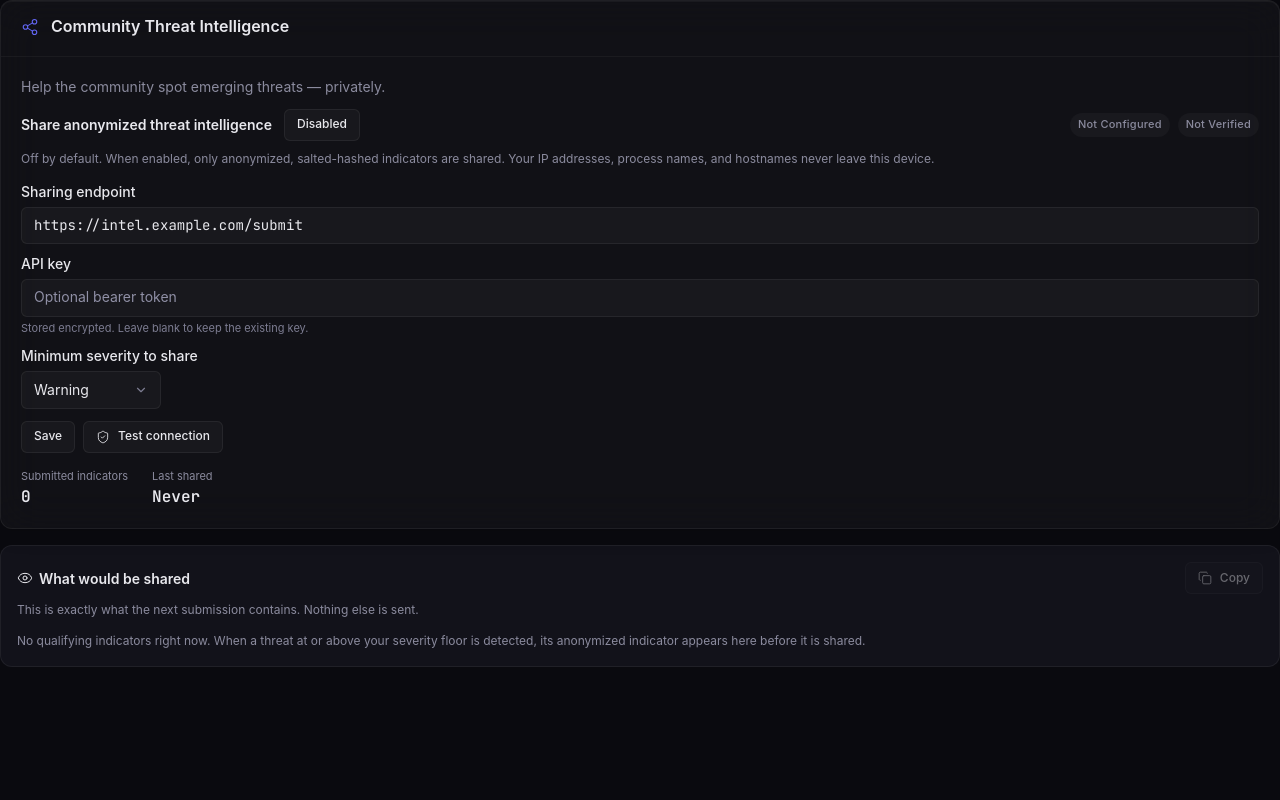
Test case: CommunityView › surfaces an IPC rejection (e.g. RBAC FORBIDDEN) instead of an unhandled rejection
Check: the field labelled "Sharing endpoint" is not empty, box left=21, top=207, right=1259, bottom=244
Click the button "Test connection".
click(153, 436)  # box left=83, top=420, right=223, bottom=452
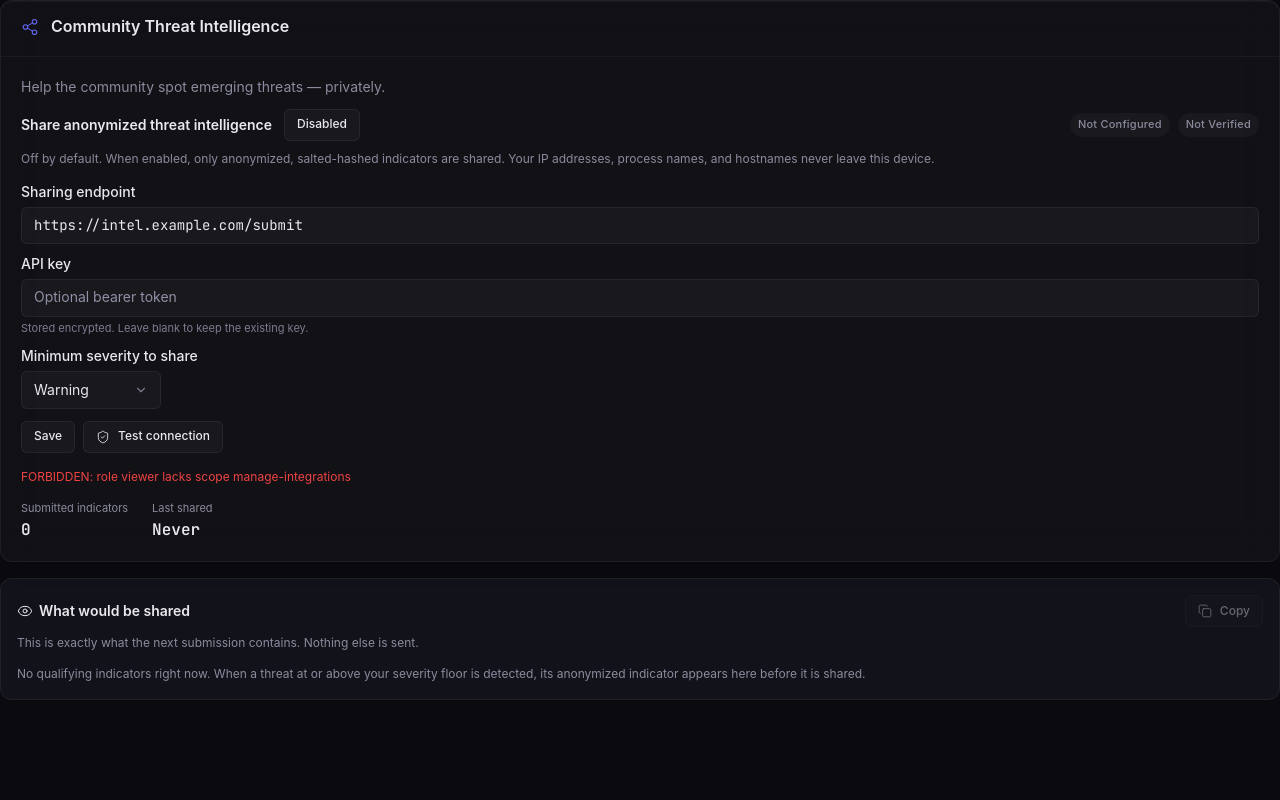
Check: the text "FORBIDDEN: role viewer lacks scope manage-integrations" is shown, box left=21, top=468, right=351, bottom=484
